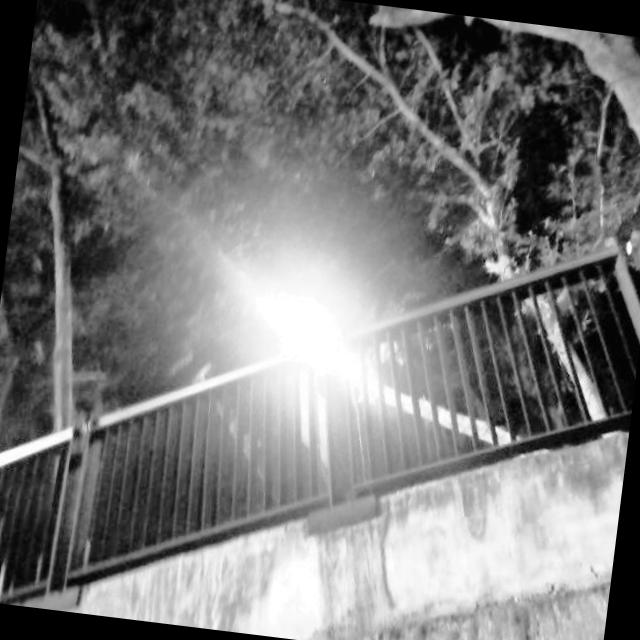Light: (256, 276, 370, 518)
Tree: (0, 59, 135, 585), (439, 15, 640, 221)
